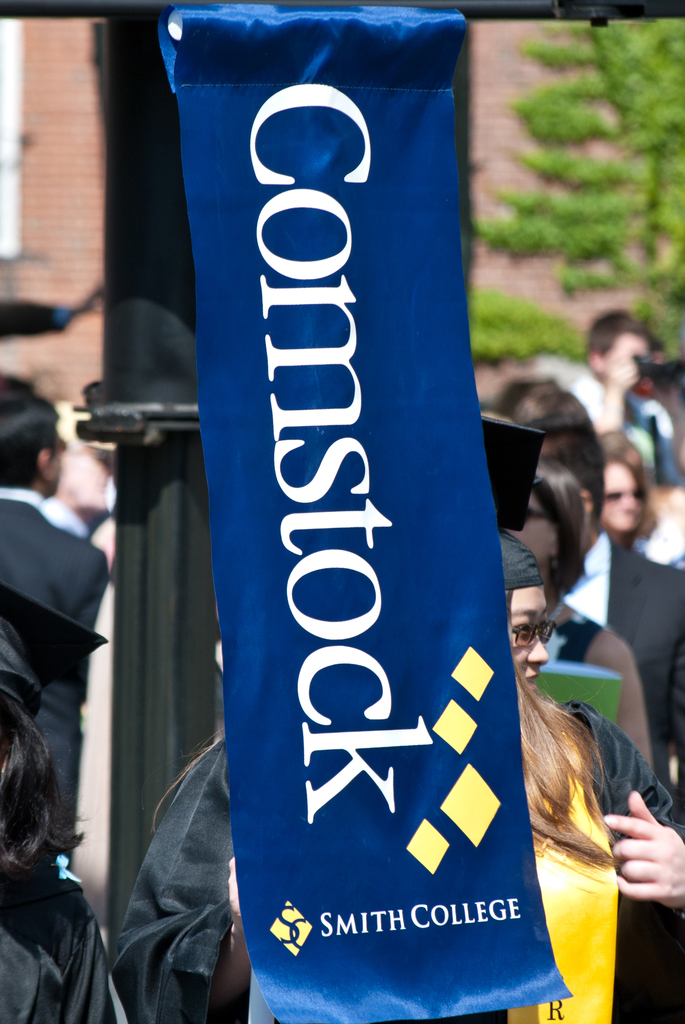Human-face: (504, 586, 547, 684), (602, 461, 647, 534)
